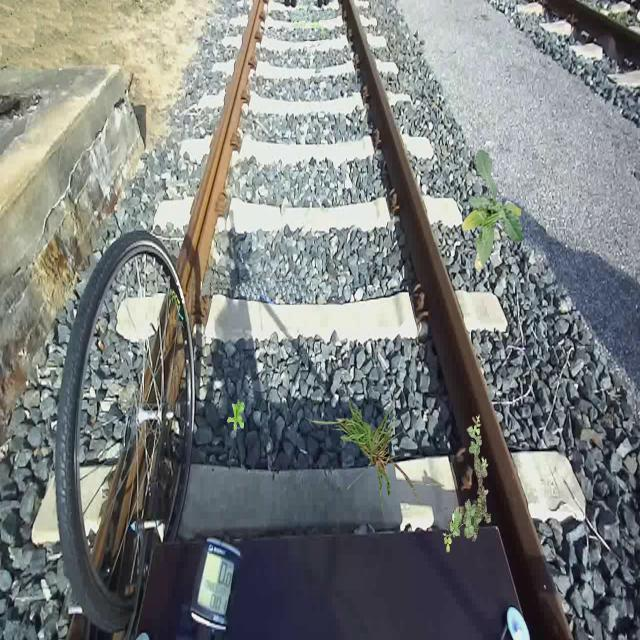Plant: (301, 398, 444, 518), (461, 148, 524, 272), (443, 415, 492, 553), (227, 400, 244, 432)
